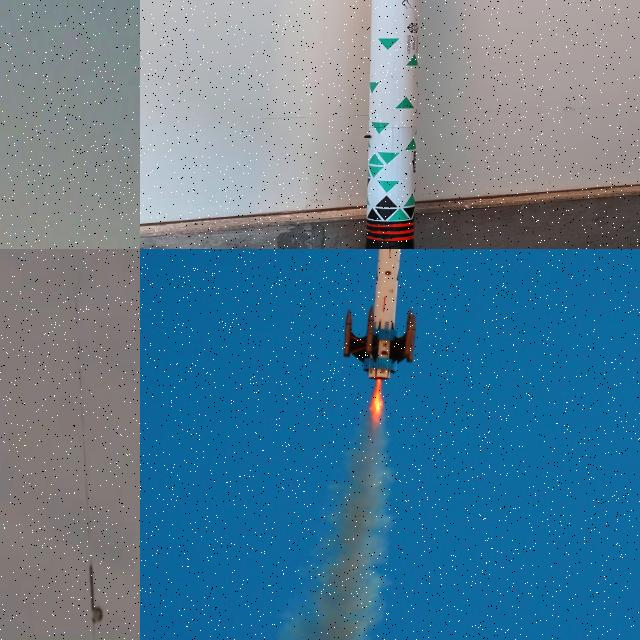Rocket: (363, 0, 419, 249), (343, 249, 419, 382), (88, 562, 104, 624)
